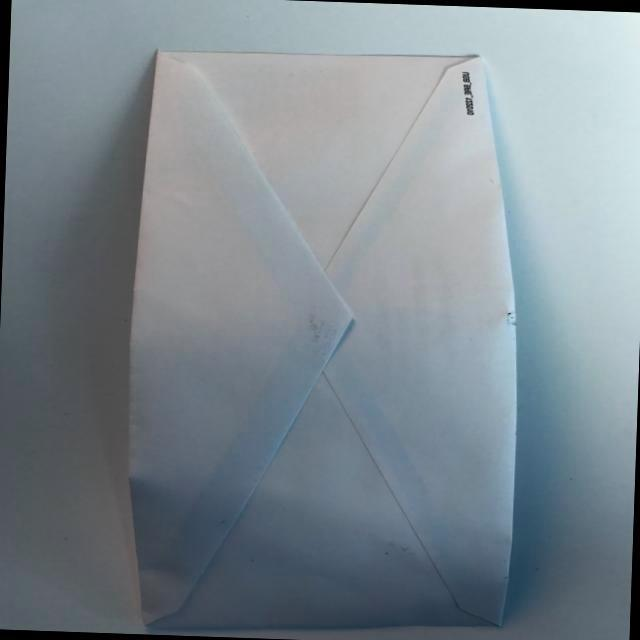paper: (119, 41, 528, 640)
